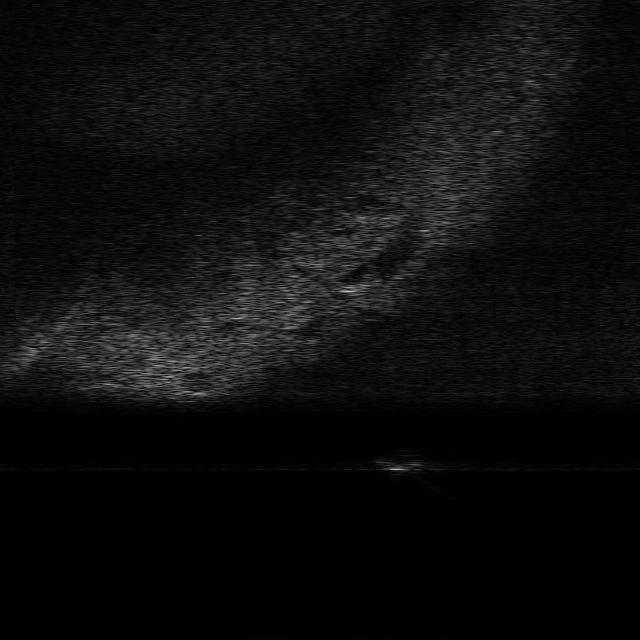cube: (377, 450, 422, 474)
